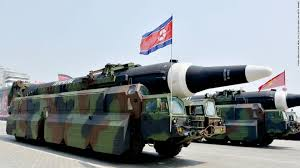ten_lua: (36, 54, 273, 101), (198, 87, 300, 117)
